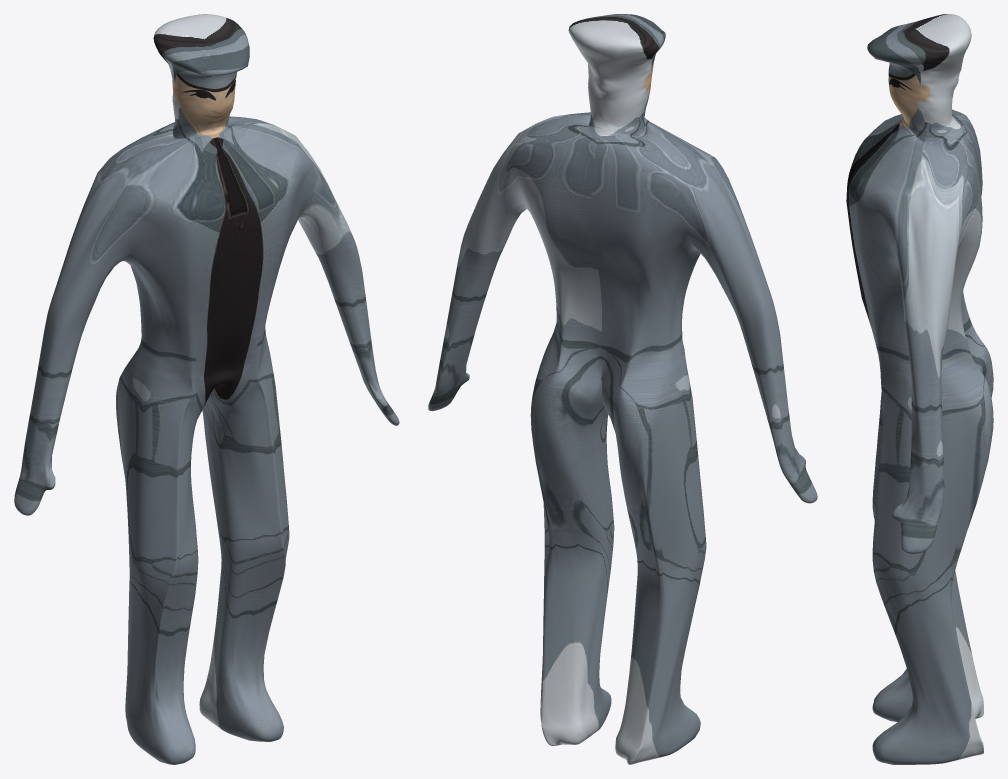
Rendered from guard.DAE.
3 renders of one model, left to right at view 1: azimuth 30°, elevation 25°; view 2: azimuth 150°, elevation 25°; view 3: azimuth 270°, elevation 25°, orthographic.
Visible parts, largest first — view 1: Box001; view 2: Box001; view 3: Box001.
Boxes of the visible parts, <box> form: Box001: <box>14,14,399,764</box>; Box001: <box>428,14,817,764</box>; Box001: <box>846,14,993,764</box>.
Size of the model in its own units: 2.18 by 0.7303 by 3.9.
Materials: 1 (1 with a texture image).
